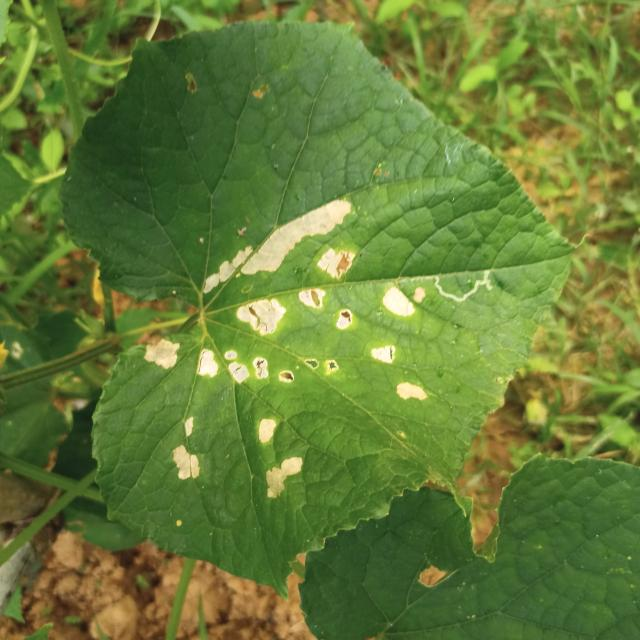disease_cucumber: (195, 192, 366, 339), (134, 337, 341, 403), (365, 280, 432, 420), (253, 413, 307, 505), (170, 413, 204, 487)
